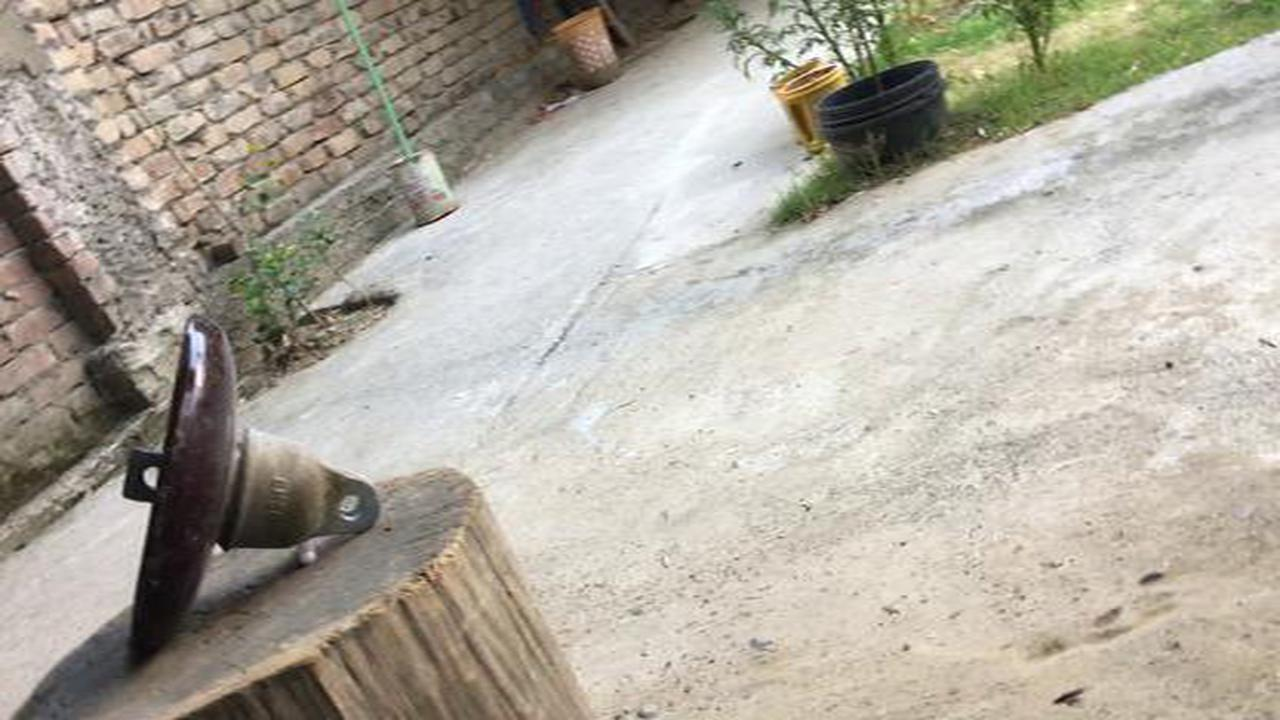insulator_disc: (117, 312, 381, 639)
